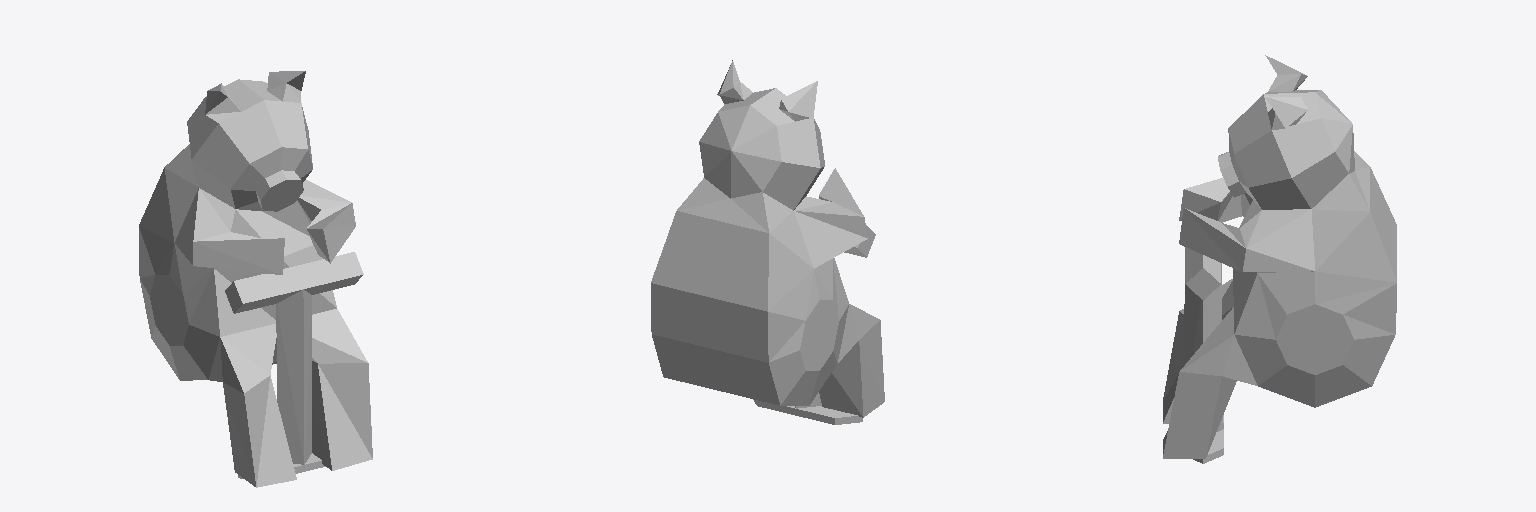
Rendered from cerdo.obj.
The picture shows the model from 3 angles: view 1: azimuth 30°, elevation 25°; view 2: azimuth 150°, elevation 25°; view 3: azimuth 270°, elevation 25°; orthographic projection.
Parts seen in each view (by area): view 1: Sphere002, Cylinder001; view 2: Sphere002, Cylinder001; view 3: Sphere002, Cylinder001.
Boxes of the visible parts, <box> form: Sphere002: <box>139,71,372,487</box>; Cylinder001: <box>225,252,363,478</box>; Sphere002: <box>651,60,884,417</box>; Cylinder001: <box>753,225,875,424</box>; Sphere002: <box>1163,55,1396,458</box>; Cylinder001: <box>1184,247,1223,463</box>.
Size of the model in its own units: 8.35 by 17.66 by 10.42.